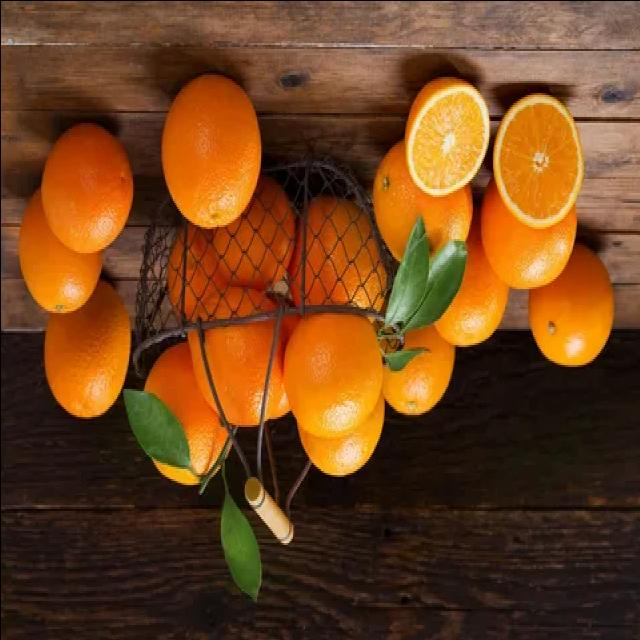orange: (160, 69, 260, 233), (33, 108, 132, 264), (276, 302, 389, 434)
